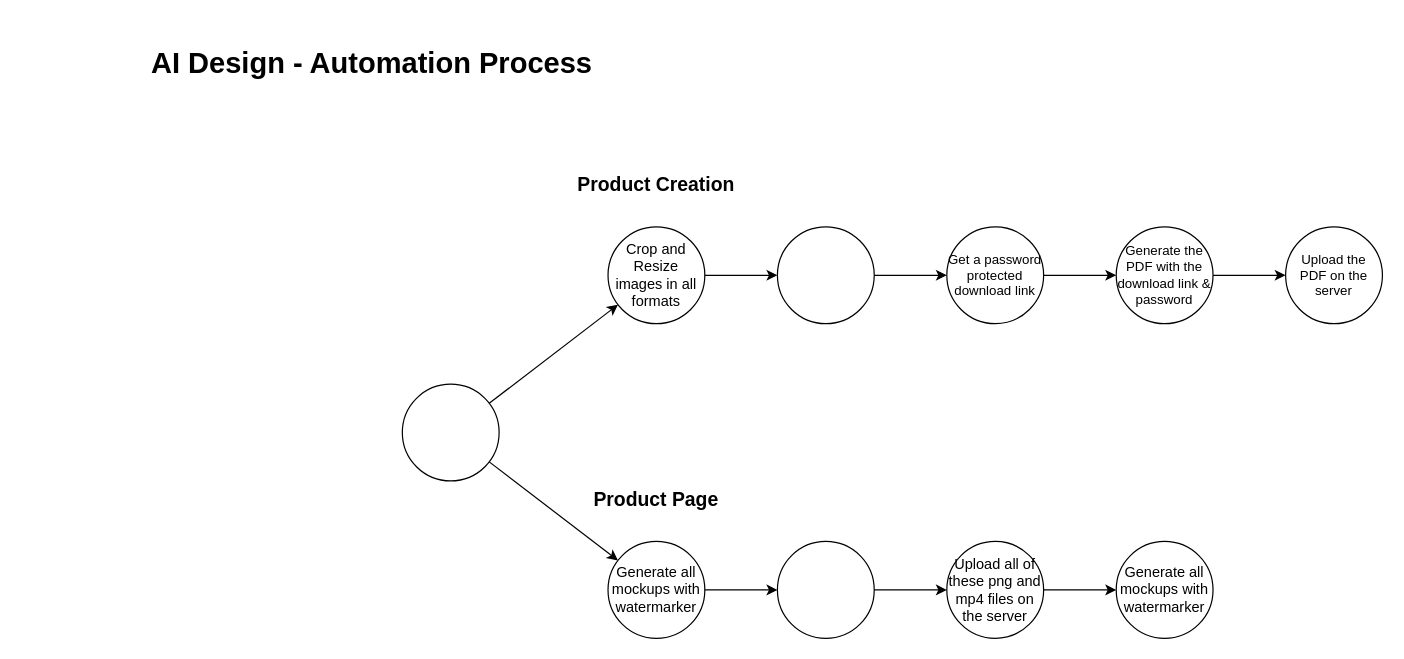
The diagram is 1404 pixels wide and 659 high, and some of its shapes have lost their labels. The box of each missing label's shape, as (x1, y1, x2, y2) in pixels:
AI Design Generated: (401, 383, 499, 481)
Generate short design video: (776, 540, 874, 638)
Upload images on a server: (776, 226, 874, 324)
